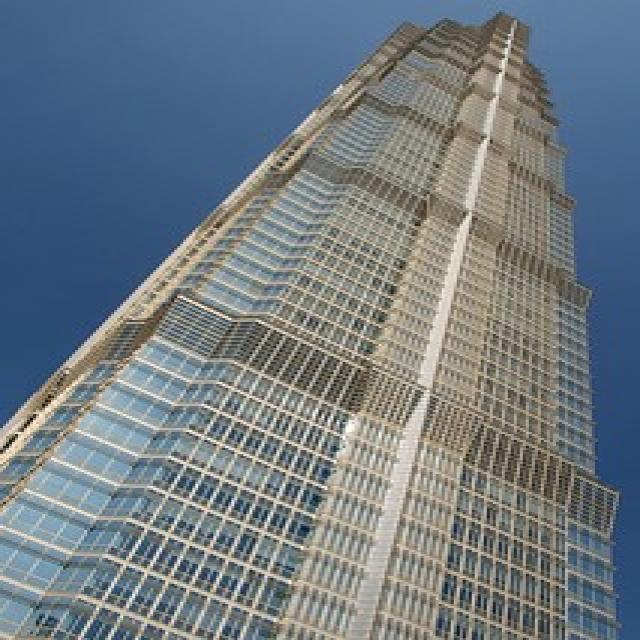building: (9, 8, 628, 640)
